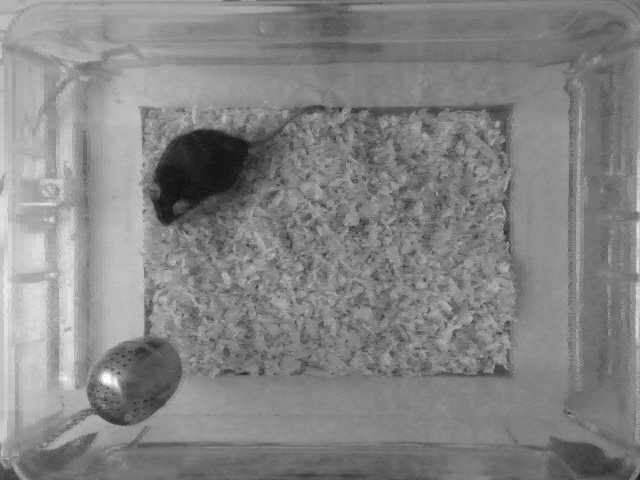mice: (149, 103, 328, 230)
